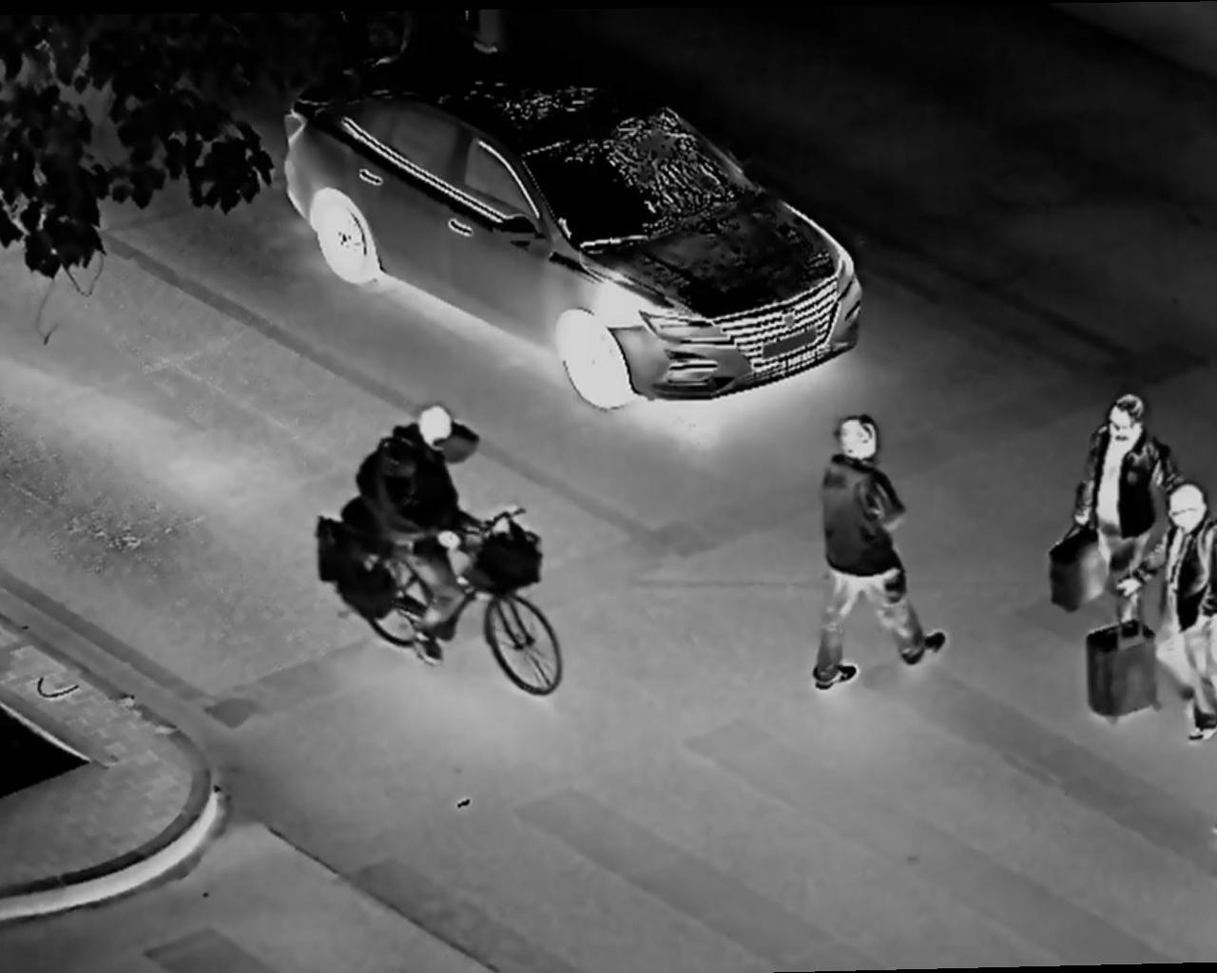person: (804, 408, 956, 706), (362, 404, 491, 690), (1055, 385, 1182, 616), (1144, 479, 1217, 722)
